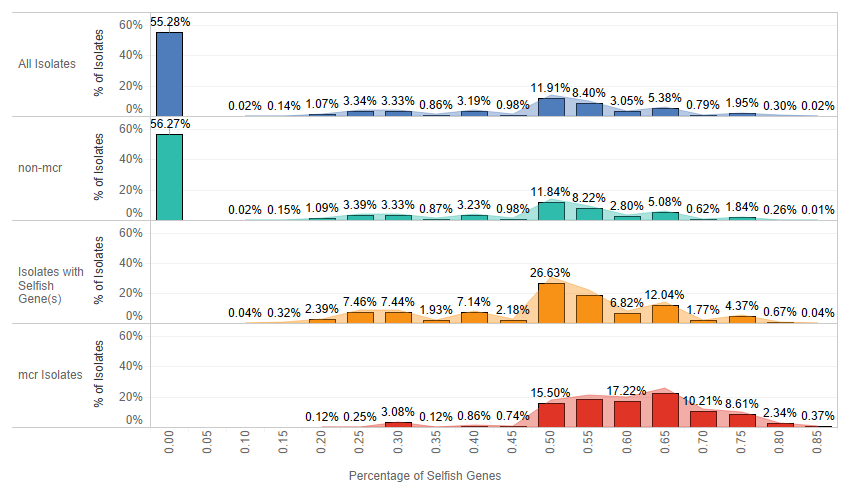

This screenshot's page, from the dashboard's own definition file:
{"tool":"tableau","page":{"name":"Dist Dashboard","canvas":[850,700],"ordinal":3},"visuals":[{"type":"worksheet","title":"Separate Dists","mark":"Automatic","rows":["set","Number of Records","Number of Records"],"cols":["Pctself (bin)"],"box":[8,8,834,638.8]},{"type":"text","box":[8,646.8,834,45.2]}]}

Visuals, with their boxes on the page's 850x700 design canvas (x1, y1, x2, y2). These are canvas units, not pixel positions in the 850x500 screenshot, which may show the page scaled, cropped or inside an application window:
"Separate Dists" worksheet: <box>8,8,842,647</box>
text: <box>8,647,842,692</box>
